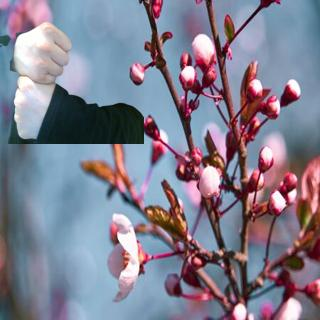CAREFUL: (10, 17, 75, 140)
